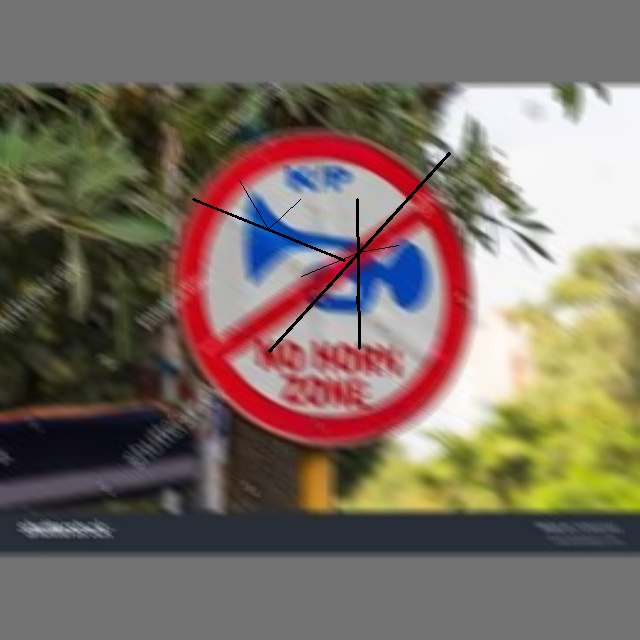Horn_Prohibited: (183, 132, 466, 437)
